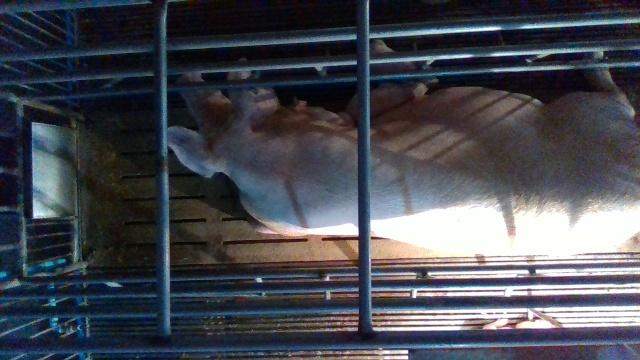piglet: (344, 83, 430, 123), (371, 39, 438, 89)
sow-sit: (169, 38, 640, 253)
